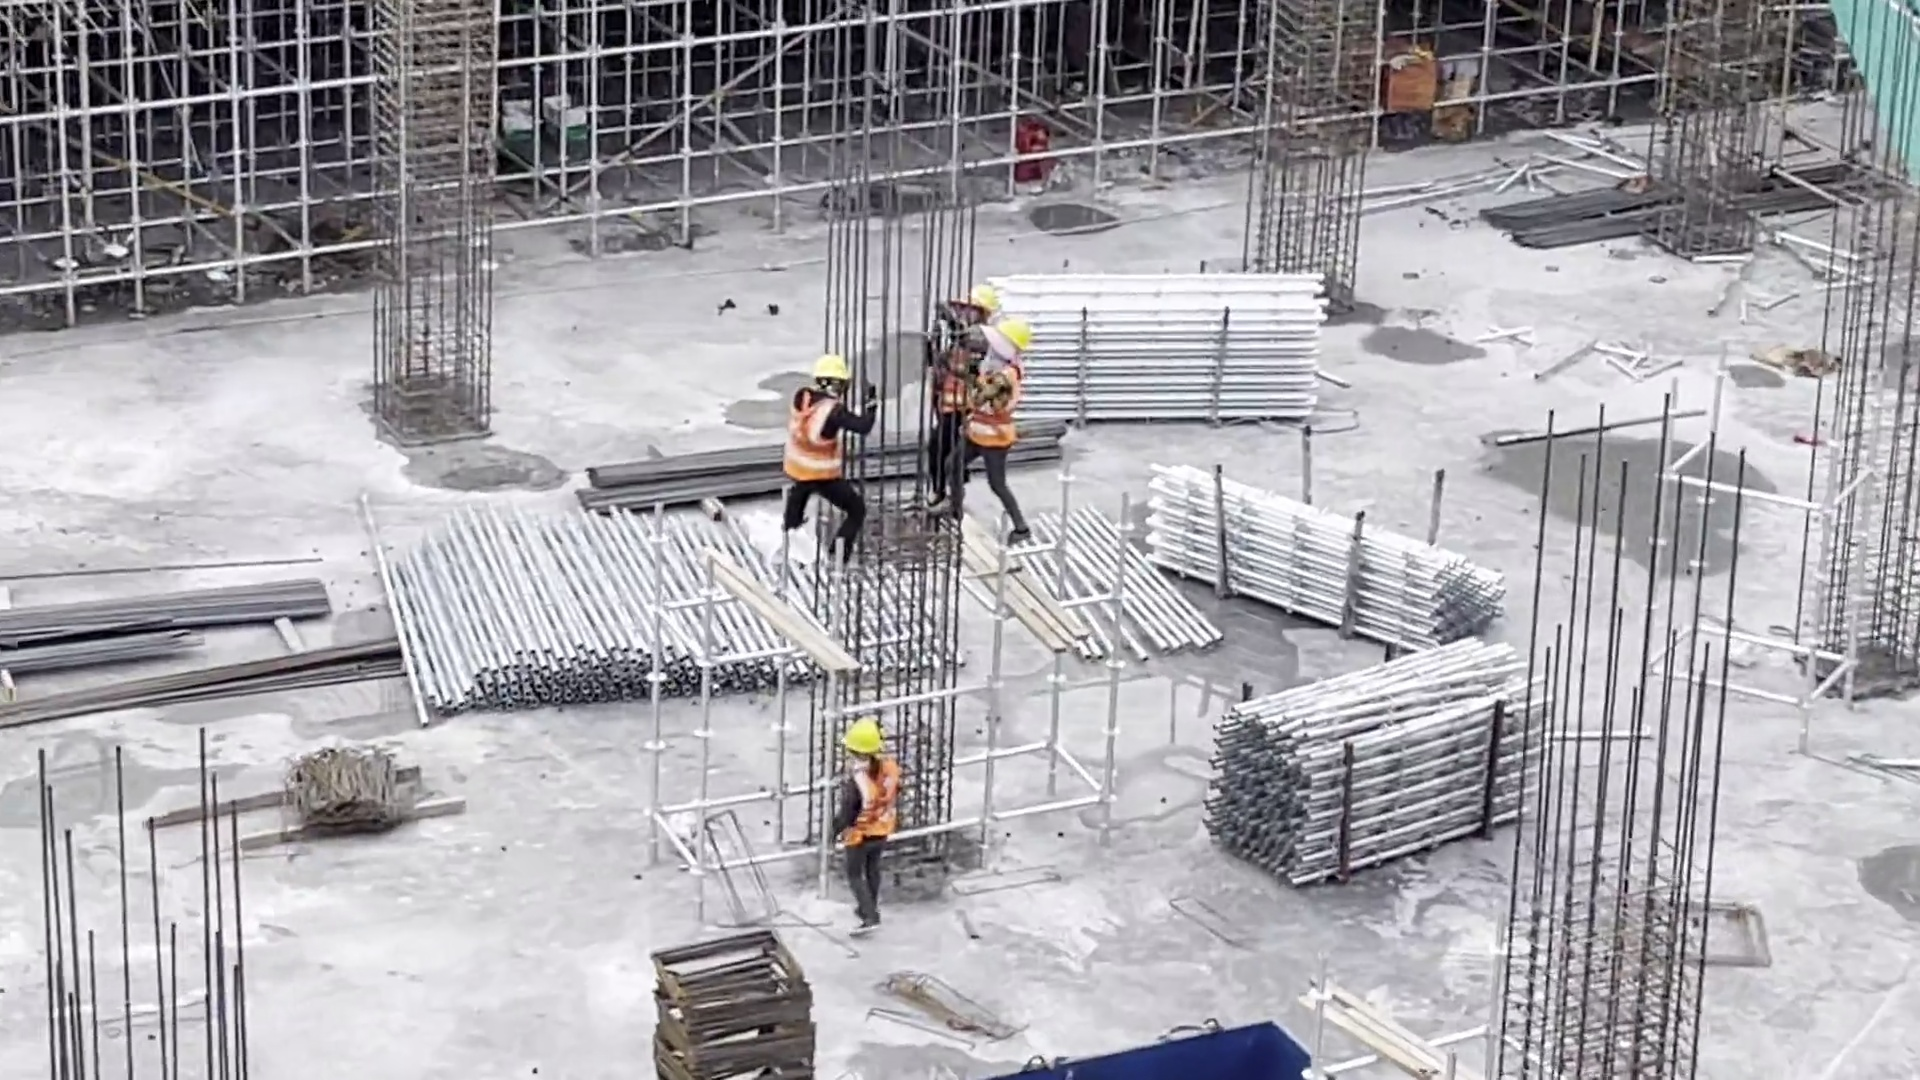helmet: (844, 720, 888, 753), (988, 312, 1026, 349), (800, 356, 847, 385), (945, 287, 984, 311)
hopper: (982, 1020, 1343, 1080)
person: (789, 352, 860, 548), (959, 319, 1028, 516), (837, 714, 896, 923), (932, 293, 974, 474)
rebar: (1, 632, 481, 747), (1, 549, 362, 677), (591, 415, 1080, 508), (1473, 146, 1844, 258)
scaffold: (385, 483, 855, 701), (1186, 657, 1581, 895), (1134, 448, 1500, 650), (988, 257, 1367, 442)
vest: (789, 387, 848, 489), (974, 356, 1018, 457), (849, 765, 891, 828)
